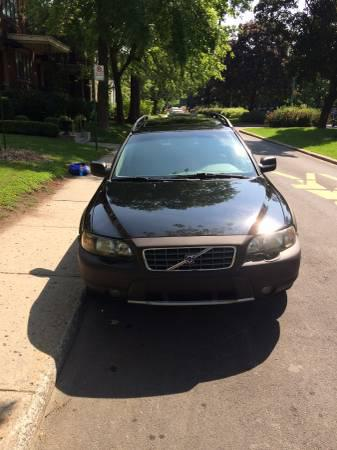volvo: (41, 96, 325, 320)
